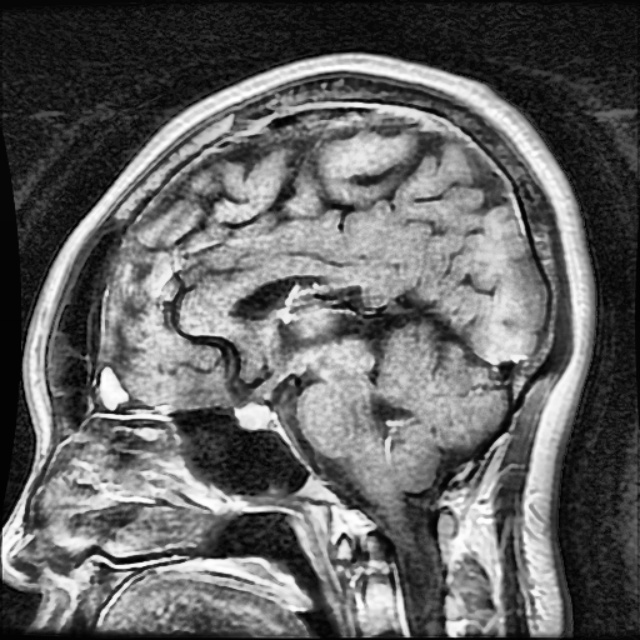Pituitary: (235, 405, 277, 429)
